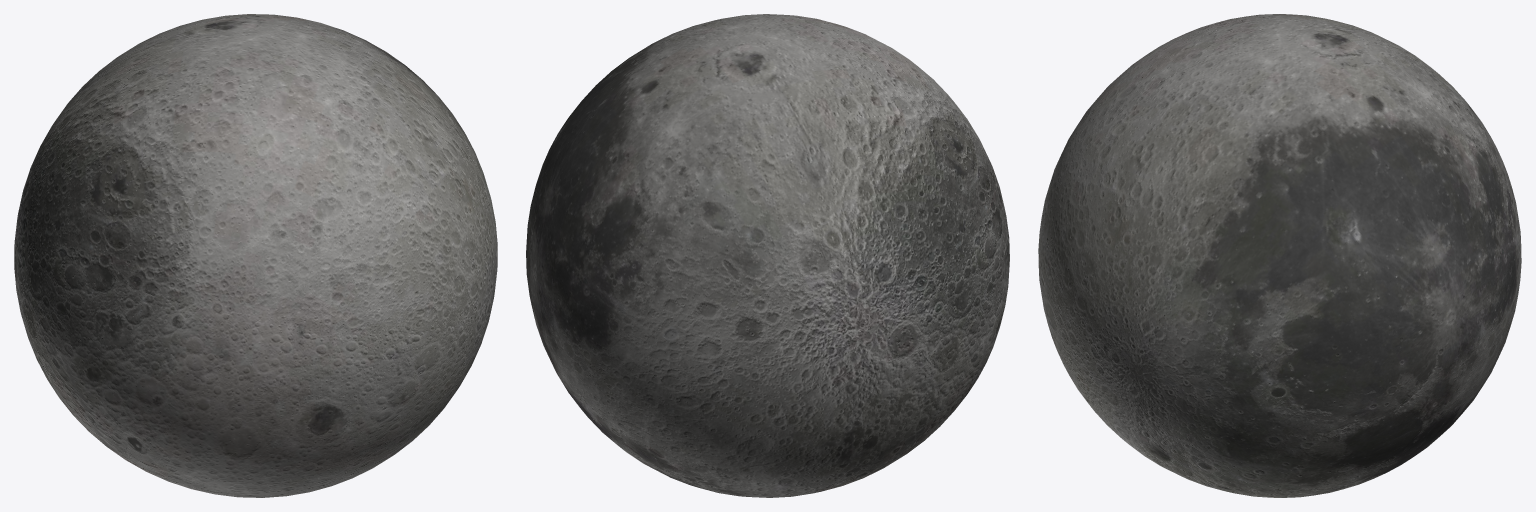
The model's file is Mars.glb.
3 views of the same model, side by side, from view 1: azimuth 30°, elevation 25°; view 2: azimuth 150°, elevation 25°; view 3: azimuth 270°, elevation 25° (orthographic).
Visible parts, largest first — view 1: Mars; view 2: Mars; view 3: Mars.
Boxes of the visible parts, x1,y1,x2,y2 form: Mars: (14, 14, 497, 497); Mars: (526, 14, 1009, 497); Mars: (1038, 14, 1521, 497).
Bounding box in the file's own units: 2 × 1.99 × 1.99.
1 material, 1 textured.
